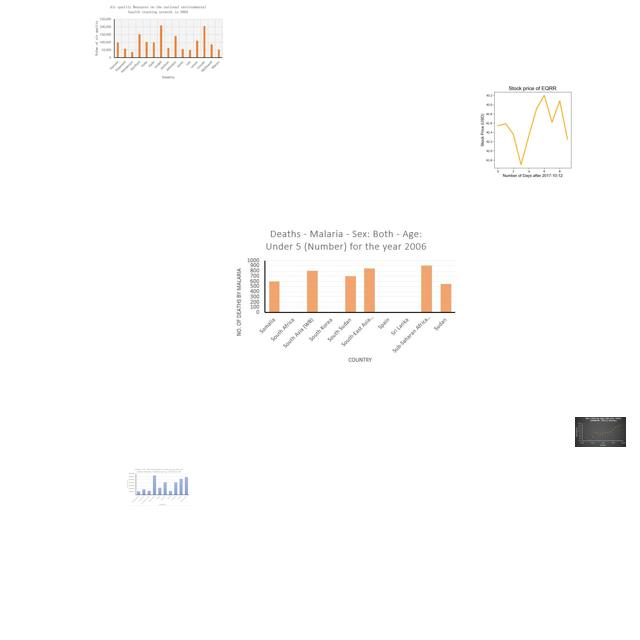Graph: (232, 224, 460, 368), (465, 80, 597, 179), (91, 2, 225, 82), (127, 468, 190, 506), (575, 417, 626, 447)
